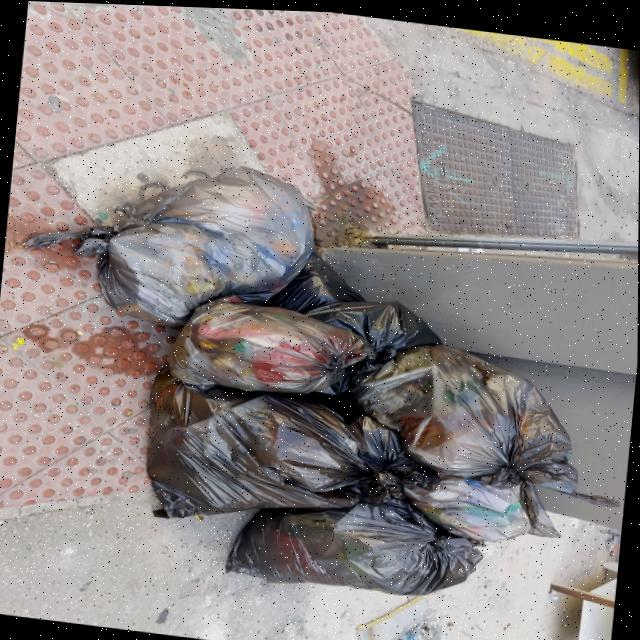Mixed Waste -Black Bag-: (11, 134, 324, 343), (141, 364, 444, 554), (345, 331, 637, 507), (216, 468, 490, 609), (161, 278, 377, 412), (400, 465, 569, 549), (314, 290, 449, 371), (268, 242, 368, 323)
